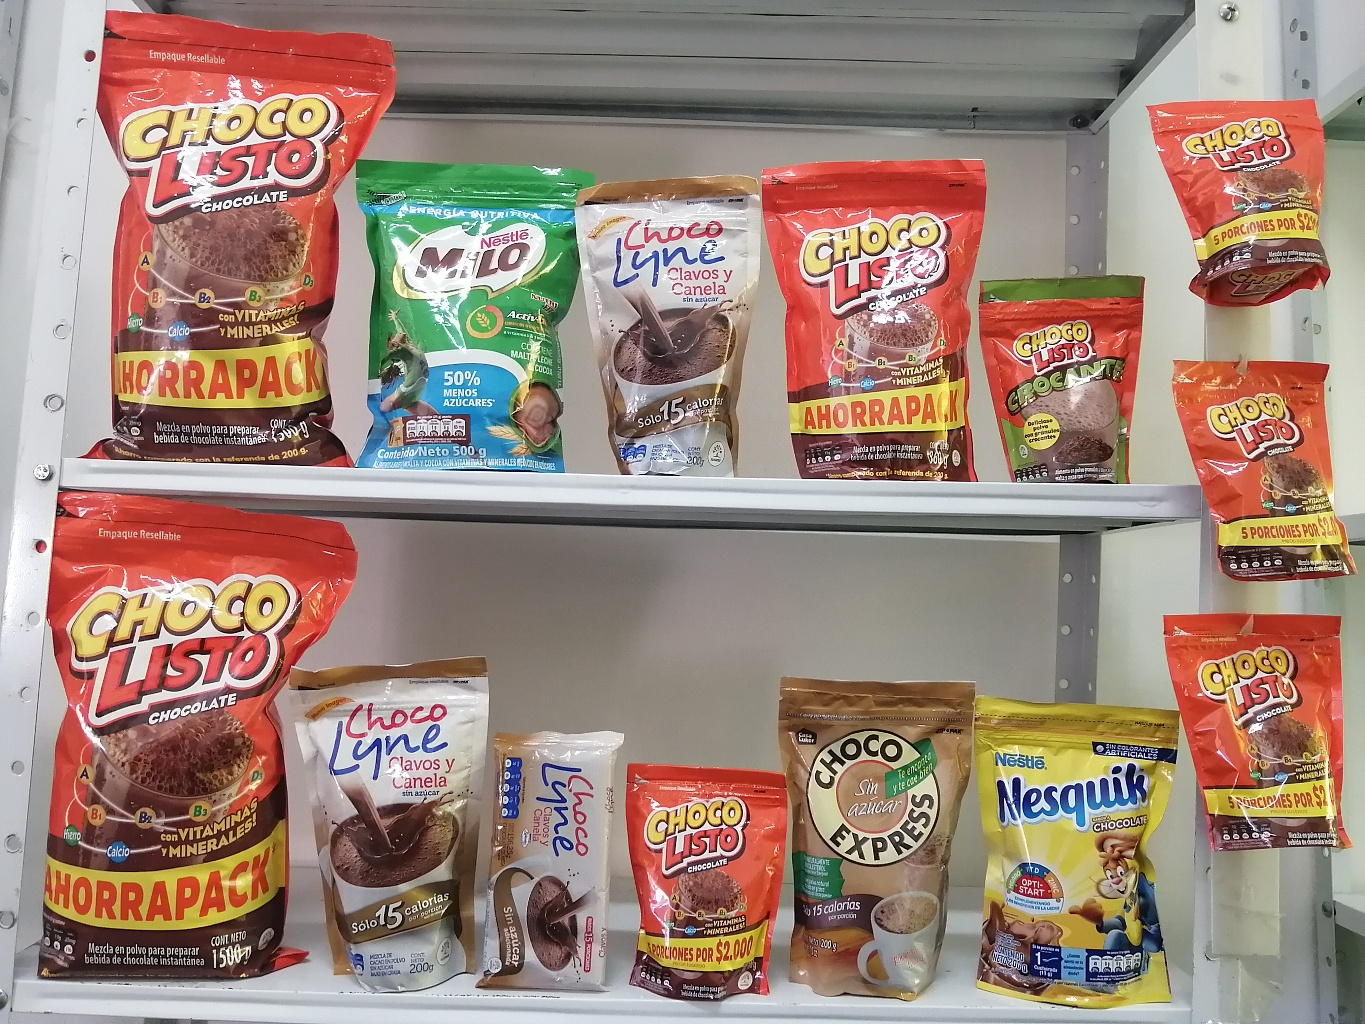COL0170102DYP10000: (976, 268, 1152, 484)
COL0170103DYP1,500: (30, 486, 360, 978)
COL0170103DYP10000: (1141, 89, 1332, 309)
COL0170103DYP36000: (757, 143, 993, 481)
COL0170205DYP50000: (350, 152, 592, 471)
COL0170303DYP20000: (966, 684, 1191, 1005)
